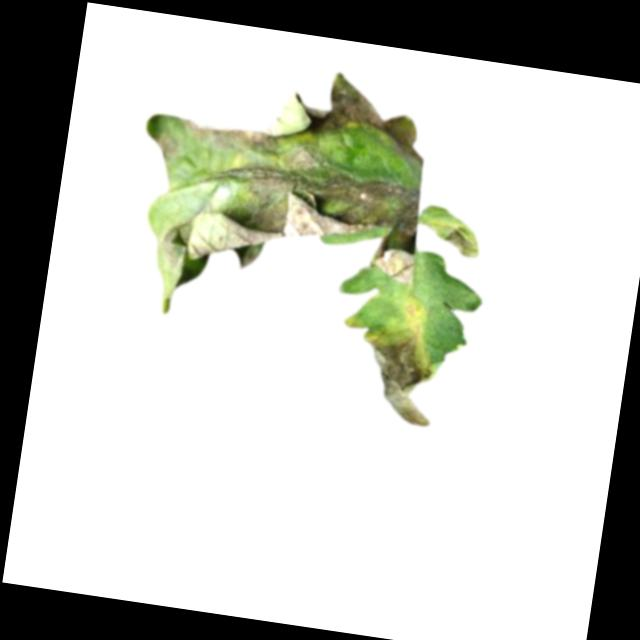Late_blight: (213, 132, 425, 273), (284, 66, 432, 160), (355, 319, 449, 429), (180, 103, 285, 155), (369, 225, 420, 282), (437, 221, 484, 259), (150, 126, 181, 159)
